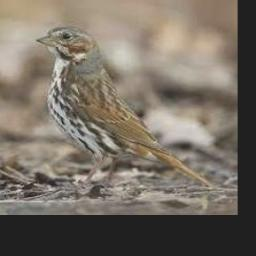Sparrow: (34, 26, 215, 188)
